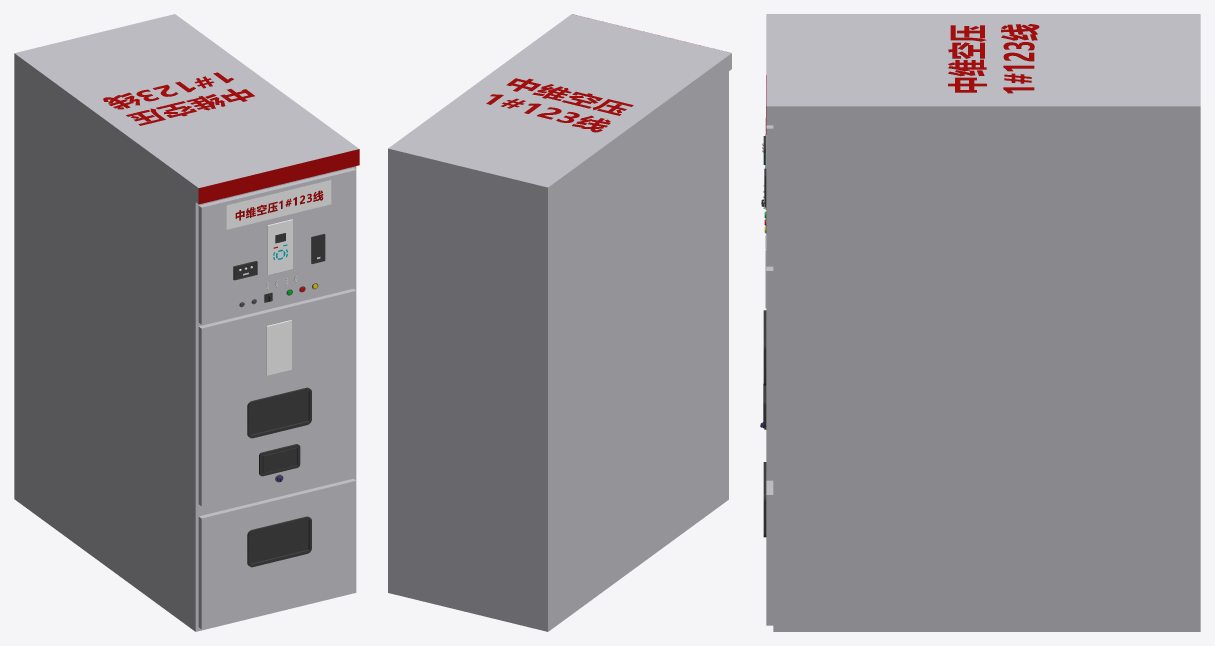
Rendered from 3-4-processed.gltf.
3 renders of one model, left to right at view 1: azimuth 30°, elevation 25°; view 2: azimuth 150°, elevation 25°; view 3: azimuth 270°, elevation 25°, orthographic. The views are drawn at different scales.
Visible parts, largest first — view 1: Rectangle8875, Rectangle8877, Rectangle8876, Obj3d66_1138023_124_1055, Obj3d66_1138023_124_1054, Rectangle8874, Text369, Obj3d66_1138023_187_722, Obj3d66_1138023_187_721, Obj3d66_1138023_127_221, Text370; view 2: Rectangle8875, Text369; view 3: Rectangle8875, Rectangle8877, Text369.
Part boxes in pixels (bbox=[...]): Rectangle8875: bbox=[14, 14, 358, 631]; Rectangle8877: bbox=[198, 168, 356, 629]; Rectangle8876: bbox=[198, 149, 359, 204]; Obj3d66_1138023_124_1055: bbox=[247, 516, 311, 567]; Obj3d66_1138023_124_1054: bbox=[247, 387, 311, 438]; Rectangle8874: bbox=[226, 180, 331, 229]; Text369: bbox=[103, 72, 254, 125]; Obj3d66_1138023_187_722: bbox=[266, 320, 291, 375]; Obj3d66_1138023_187_721: bbox=[267, 219, 292, 275]; Obj3d66_1138023_127_221: bbox=[259, 444, 300, 476]; Text370: bbox=[235, 190, 323, 220]; Rectangle8875: bbox=[388, 14, 731, 631]; Text369: bbox=[486, 78, 633, 132]; Rectangle8875: bbox=[766, 14, 1200, 631]; Rectangle8877: bbox=[766, 125, 773, 625]; Text369: bbox=[948, 24, 1039, 93].
Size of the model in its own units: 830 by 2201 by 1671.
